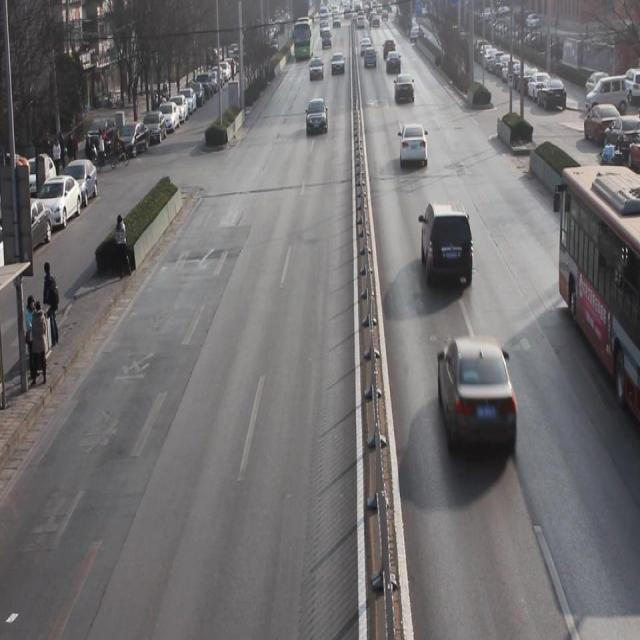car: (437, 337, 518, 457), (420, 202, 476, 289), (399, 124, 428, 169), (305, 99, 329, 134), (394, 72, 416, 106), (331, 52, 346, 76), (310, 56, 323, 83)
van: (559, 163, 640, 417)
